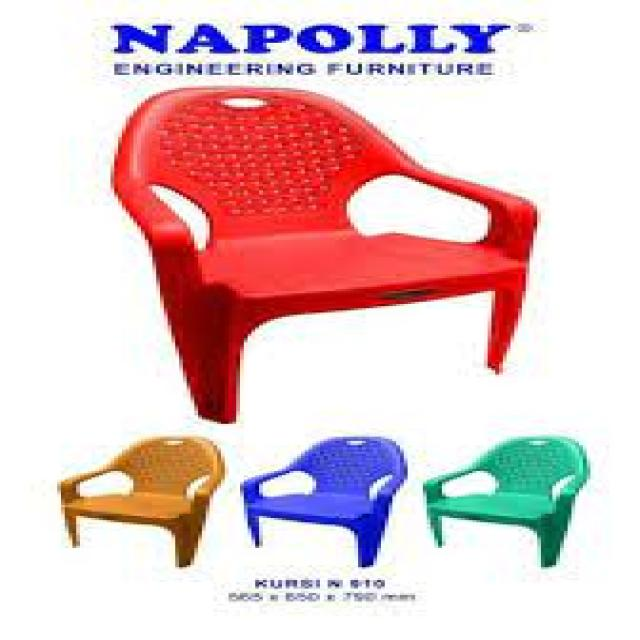chair: (97, 83, 542, 422), (33, 433, 230, 564), (422, 433, 601, 576), (244, 433, 423, 572)
